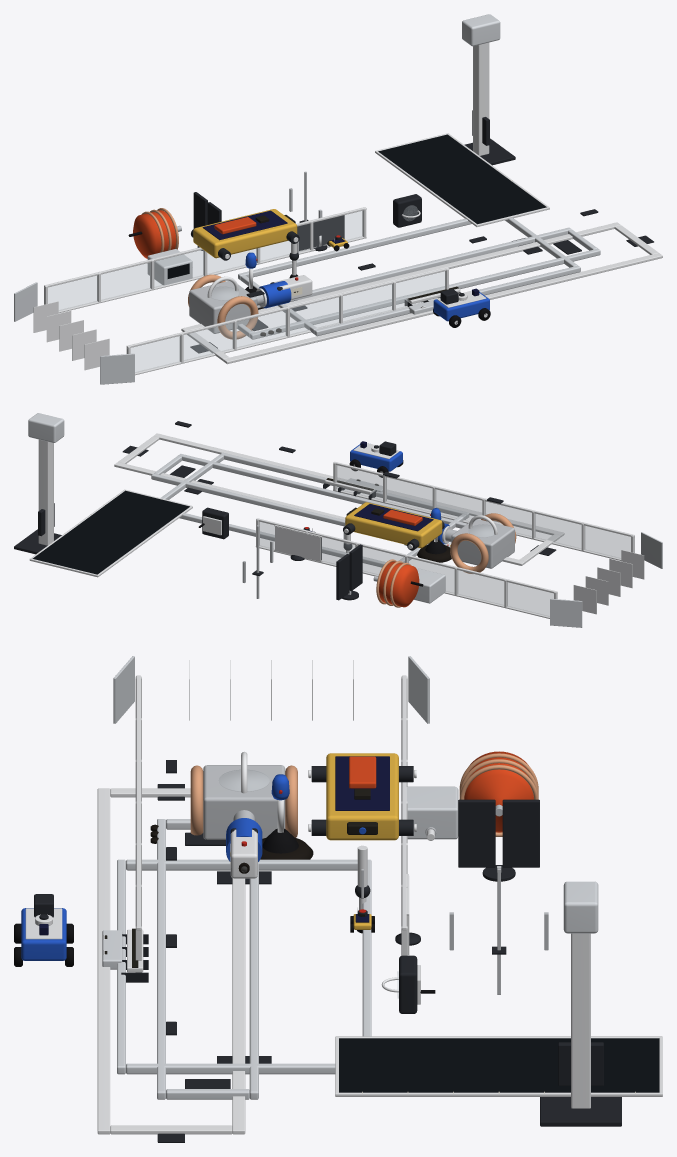
The model's file is sims2-parts.glb.
3 renders of one model, top to bottom at view 1: azimuth 30°, elevation 25°; view 2: azimuth 150°, elevation 25°; view 3: azimuth 270°, elevation 25°, orthographic. The views are drawn at different scales.
Visible parts, largest first — view 1: WindTunnel, DetScreen, TrapStage, ScopeBezel, ImageBezel, BecChamber, LaserTower, QuadBody, Oven, CartBody, CatheterDrive, MirrorMount (+3 smaller); view 2: WindTunnel, DetScreen, TrapStage, ScopeBezel, BecChamber, LaserTower, QuadBody, ImageBezel, Oven, MirrorMount, CartBody, SlitPlate (+5 smaller); view 3: DetScreen, TrapStage, LaserTower, ImageBezel, QuadBody, BecChamber, WindTunnel, ScopeBezel, SlitPlate, Oven, CartBody, CatheterDrive (+5 smaller).
Boxes of the visible parts, <box> form: WindTunnel: <box>14,207,448,384</box>; DetScreen: <box>375,133,549,226</box>; TrapStage: <box>181,209,662,364</box>; ScopeBezel: <box>237,227,600,339</box>; ImageBezel: <box>238,217,580,336</box>; BecChamber: <box>188,274,291,339</box>; LaserTower: <box>462,14,515,165</box>; QuadBody: <box>191,209,299,260</box>; Oven: <box>128,208,181,258</box>; CartBody: <box>433,288,490,327</box>; CatheterDrive: <box>147,249,192,285</box>; MirrorMount: <box>297,215,345,251</box>; WindTunnel: <box>255,461,662,627</box>; DetScreen: <box>29,489,192,577</box>; TrapStage: <box>114,421,564,565</box>; ScopeBezel: <box>151,454,466,547</box>; BecChamber: <box>438,513,516,573</box>; LaserTower: <box>14,413,64,554</box>; QuadBody: <box>343,502,444,550</box>; ImageBezel: <box>161,452,469,567</box>; Oven: <box>373,559,423,607</box>; MirrorMount: <box>274,525,322,561</box>; CartBody: <box>349,441,403,477</box>; SlitPlate: <box>336,544,362,600</box>; DetScreen: <box>335,1036,662,1096</box>; TrapStage: <box>97,760,245,1142</box>; LaserTower: <box>540,881,621,1126</box>; ImageBezel: <box>117,859,371,1074</box>; QuadBody: <box>308,753,416,840</box>; BecChamber: <box>190,751,297,861</box>; WindTunnel: <box>102,656,429,972</box>; ScopeBezel: <box>150,819,258,1099</box>; SlitPlate: <box>458,799,539,881</box>; Oven: <box>459,751,538,836</box>; CartBody: <box>14,894,73,966</box>; CatheterDrive: <box>406,786,458,840</box>.
Bounding box in the file's own units: 11.47 × 3.16 × 7.13.
